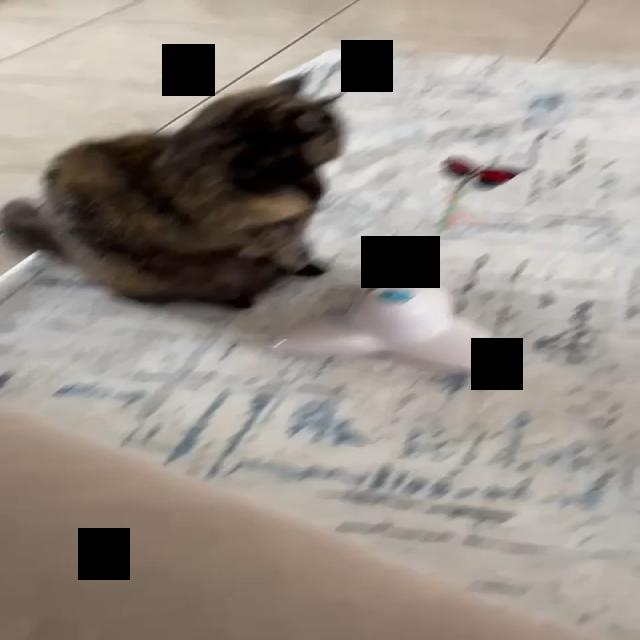authorized: (0, 73, 351, 310)
